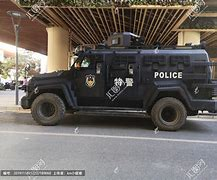specialcar: (24, 34, 213, 137)
